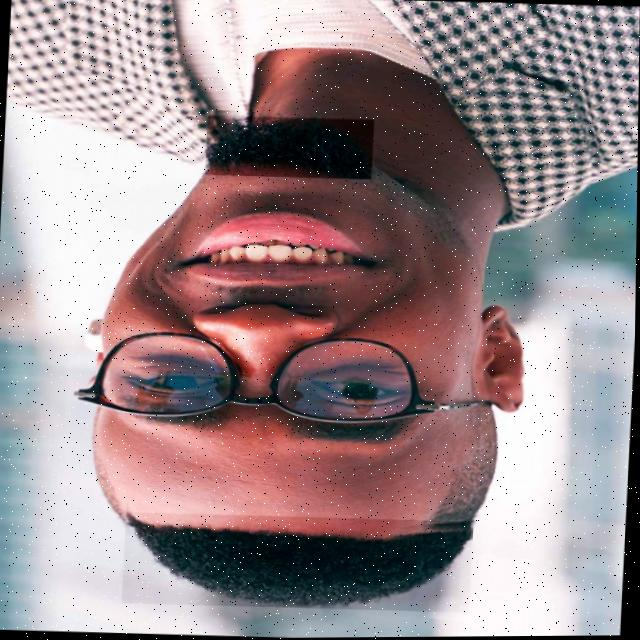beard: (207, 117, 371, 178)
hair: (128, 512, 474, 608)
